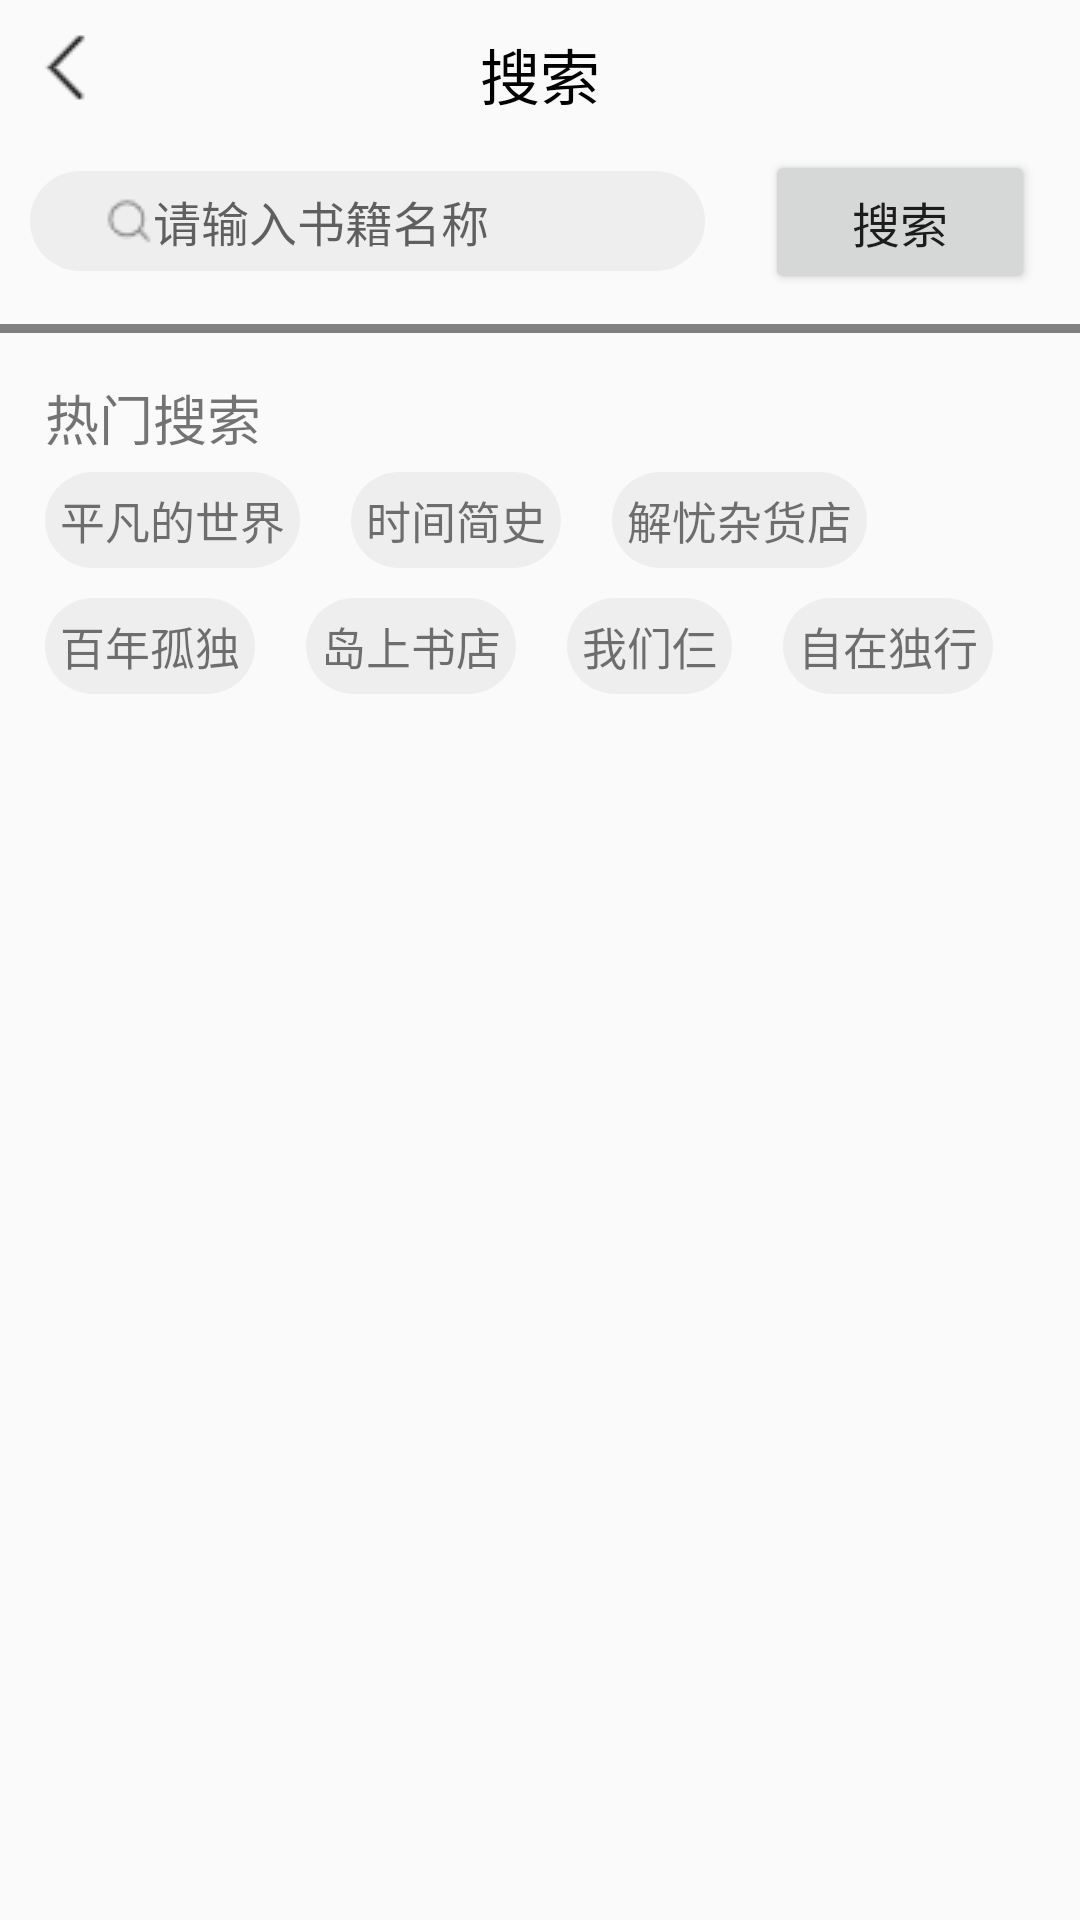

Icon click points for this 1080 × 1920 phone screenshot, format (x=x, y=y):
backblack: (x=65, y=67)
